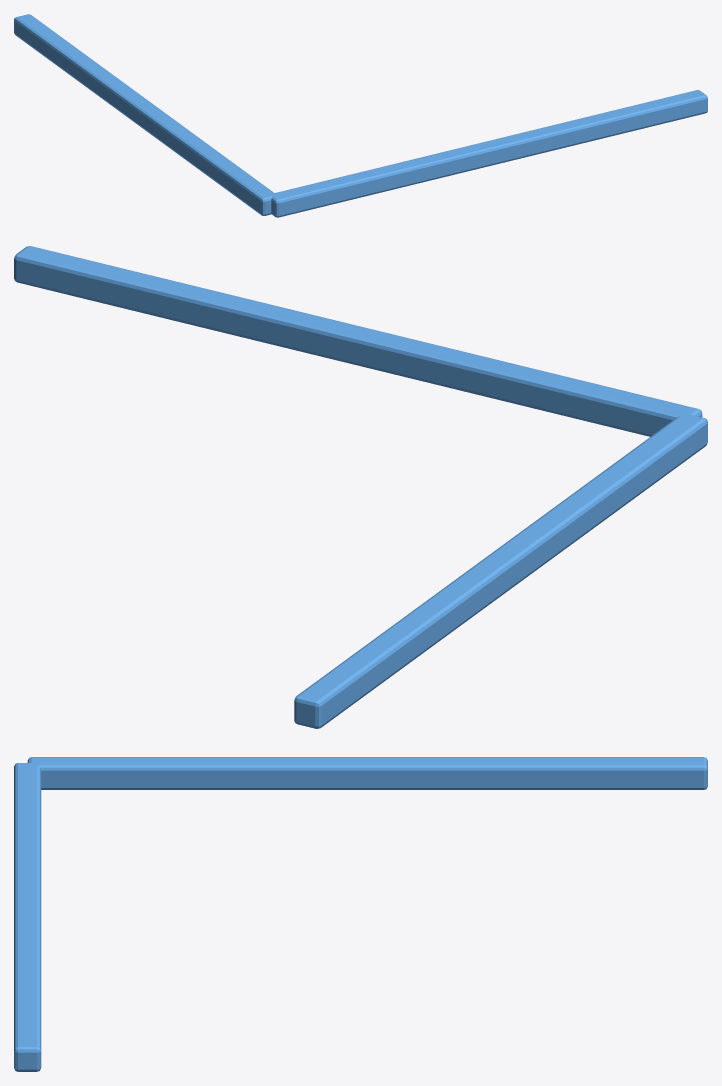
File: PGK_Rail_Corner90_LOD0.fbx
3 views of the same model, one above another, from view 1: azimuth 30°, elevation 25°; view 2: azimuth 150°, elevation 25°; view 3: azimuth 270°, elevation 25° (orthographic). The views are drawn at different scales.
Parts seen in each view (by area): view 1: RailA, RailB; view 2: RailA, RailB; view 3: RailB, RailA.
Boxes of the visible parts, x1,y1,x2,y2 form: RailA: (271,90,707,217); RailB: (14,14,274,215); RailA: (14,246,702,436); RailB: (294,414,707,728); RailB: (27,757,707,789); RailA: (14,763,41,1071).
Bounding box in the file's own units: 1.02 × 0.04 × 1.02.
